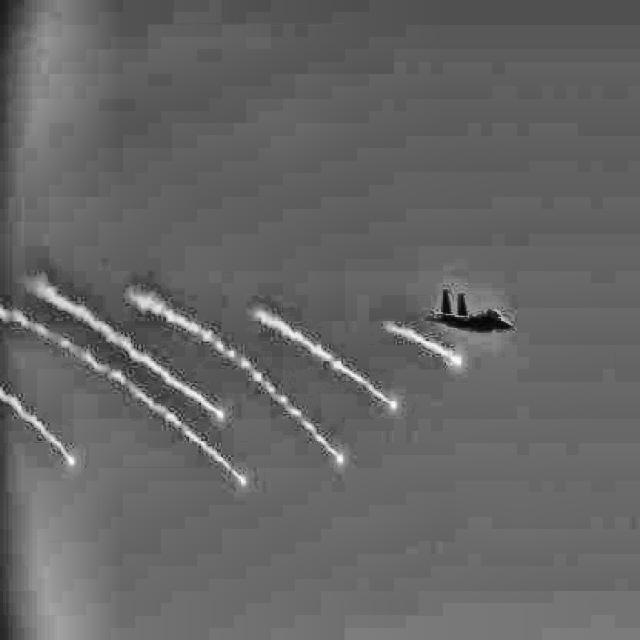F15: (427, 290, 513, 332)
